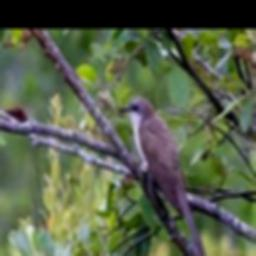Cuckoo: (120, 97, 208, 256)
